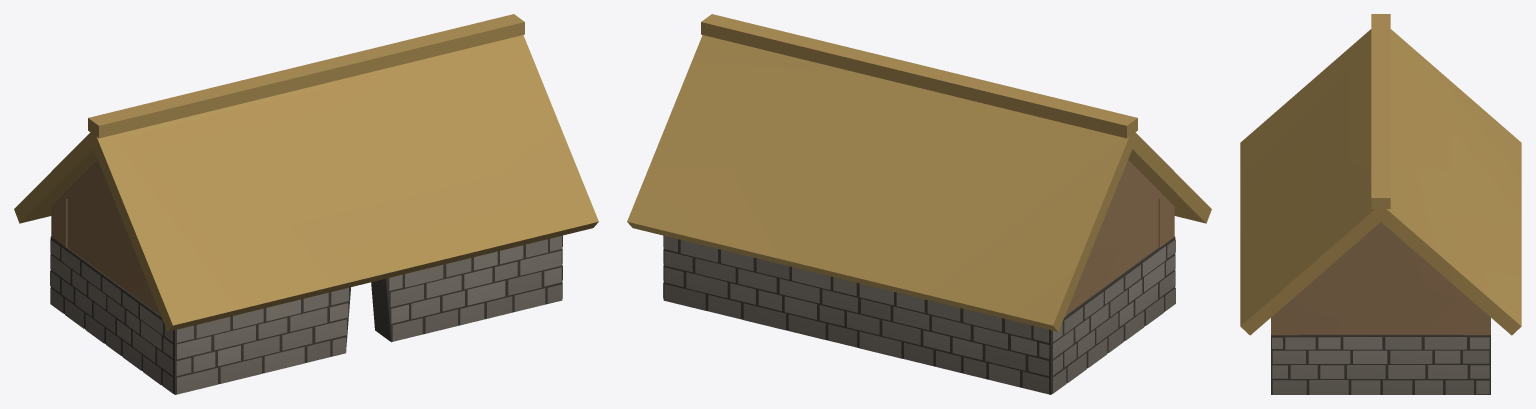
File: cusco_wasi_lod1.glb
3 views of the same model, side by side, from view 1: azimuth 30°, elevation 25°; view 2: azimuth 150°, elevation 25°; view 3: azimuth 270°, elevation 25° (orthographic). The views are drawn at different scales.
Visible parts, largest first — view 1: GEO-Arch_cusco_wasi_LOD1; view 2: GEO-Arch_cusco_wasi_LOD1; view 3: GEO-Arch_cusco_wasi_LOD1.
Part boxes in pixels (x1,y1,x2,y2): GEO-Arch_cusco_wasi_LOD1: [14, 14, 598, 394]; GEO-Arch_cusco_wasi_LOD1: [627, 14, 1211, 394]; GEO-Arch_cusco_wasi_LOD1: [1240, 14, 1521, 394].
Size of the model in its own units: 9.9 by 5.16 by 6.4.
